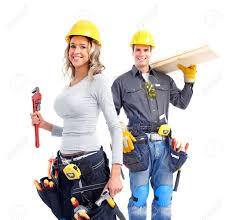Person_wearing_helmet: (59, 18, 106, 51), (126, 28, 156, 52)
